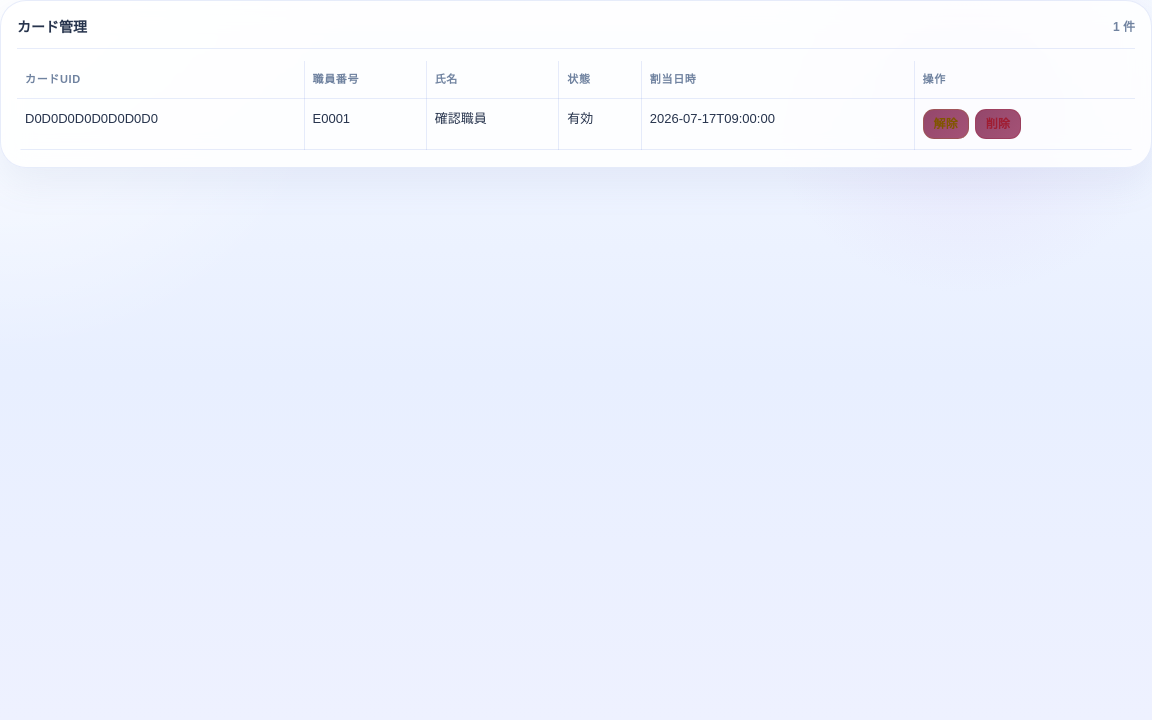
Test: CardsSection › カード解除は確認後にだけ実行される
Later steps or results of the test are not shown.
Click the button "解除" at (946, 124), box x1=923 y1=109 x2=969 y2=139
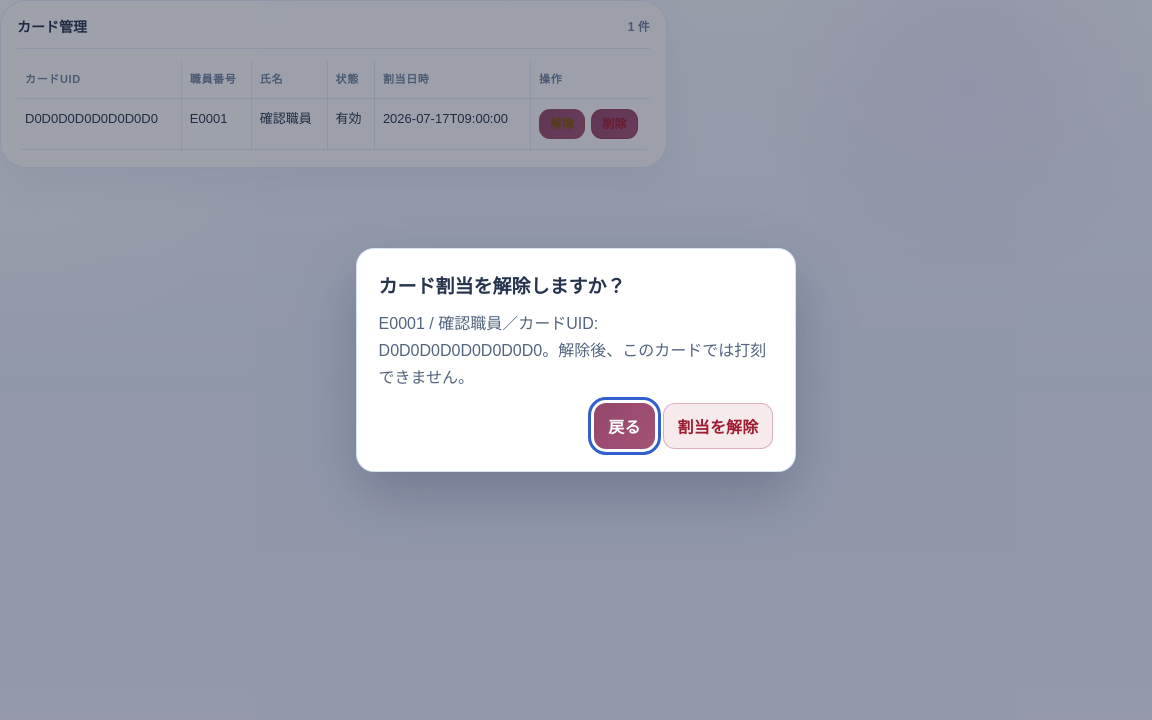
Check: the dialog "カード割当を解除しますか？" shows "このカードでは打刻できません", box x1=379 y1=315 x2=766 y2=386
